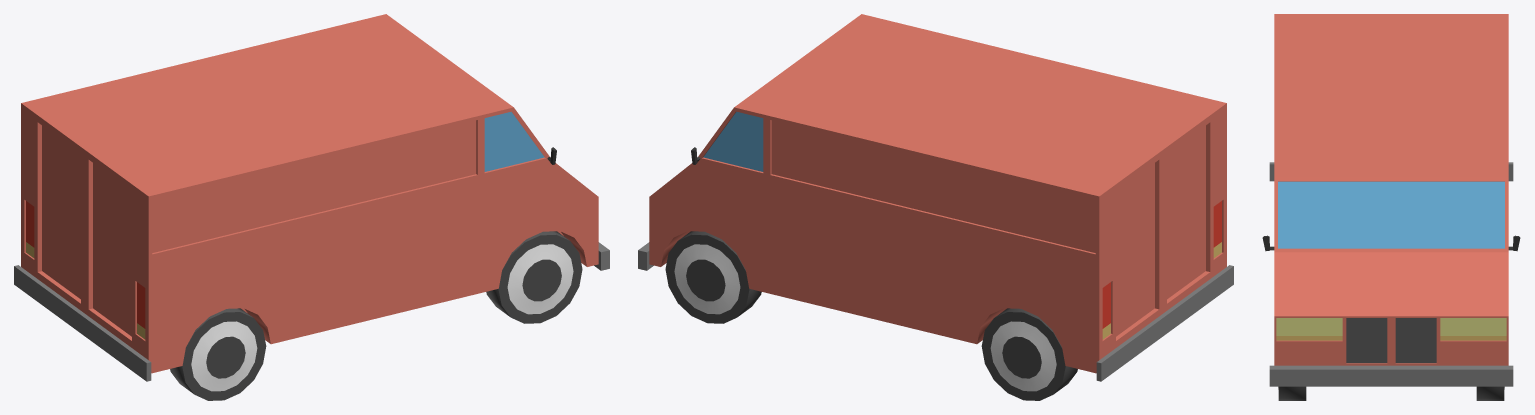
File: Van Model.fbx
The picture shows the model from 3 angles, left to right: view 1: azimuth 30°, elevation 25°; view 2: azimuth 150°, elevation 25°; view 3: azimuth 270°, elevation 25°; orthographic projection. The views are drawn at different scales.
Visible parts, largest first — view 1: Van - Body, Van Wheel - Front Right, Van Wheel - Back Right; view 2: Van - Body, Van Wheel - Front Left, Van Wheel - Back Left; view 3: Van - Body, Van Wheel - Front Left, Van Wheel - Front Right.
Part boxes in pixels (x1,y1,x2,y2): Van - Body: (14,14,609,381); Van Wheel - Front Right: (486,231,582,323); Van Wheel - Back Right: (170,308,266,400); Van - Body: (638,14,1233,381); Van Wheel - Front Left: (665,231,761,323); Van Wheel - Back Left: (981,308,1077,400); Van - Body: (1262,14,1520,386); Van Wheel - Front Left: (1476,386,1504,400); Van Wheel - Front Right: (1278,386,1306,400).
Bounding box in the file's own units: 551 × 486 × 1048.
